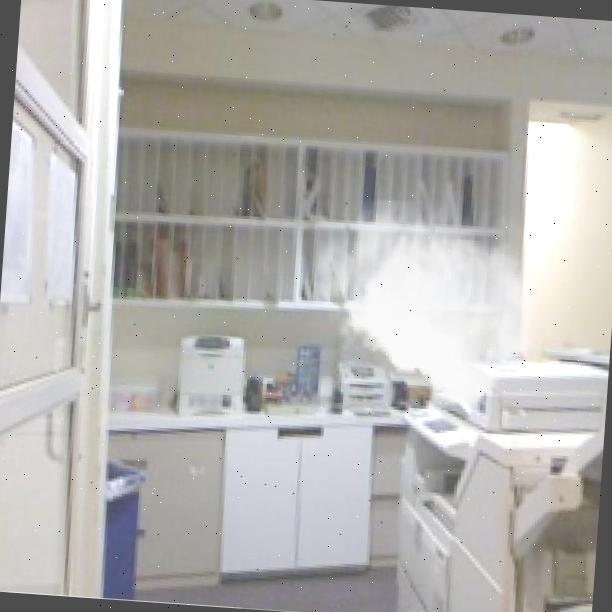smoke: (308, 196, 544, 411)
